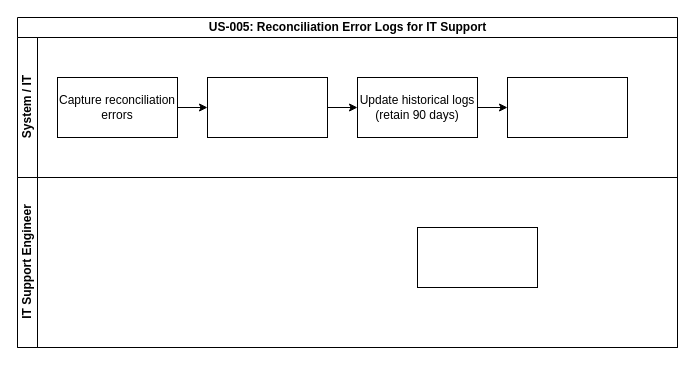
Some shapes in this 695 by 365 pixel diagram are drawn without their labels. The centre of each missing label's shape, as x and y in pixels:
Log invoice ID, customer ID, payment info, failure reason: the point at 267,107
Provide filtering options for IT (date, department, severity): the point at 567,107
Review logs as needed: the point at 477,257
